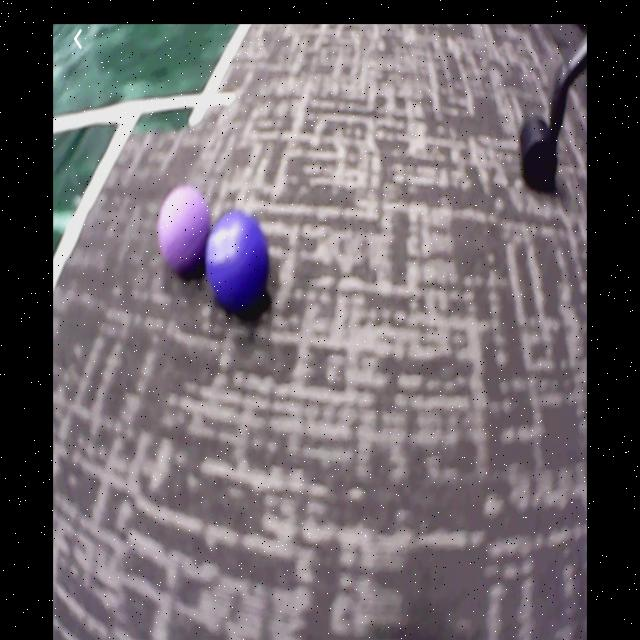ball: (205, 214, 273, 314), (158, 188, 212, 276)
